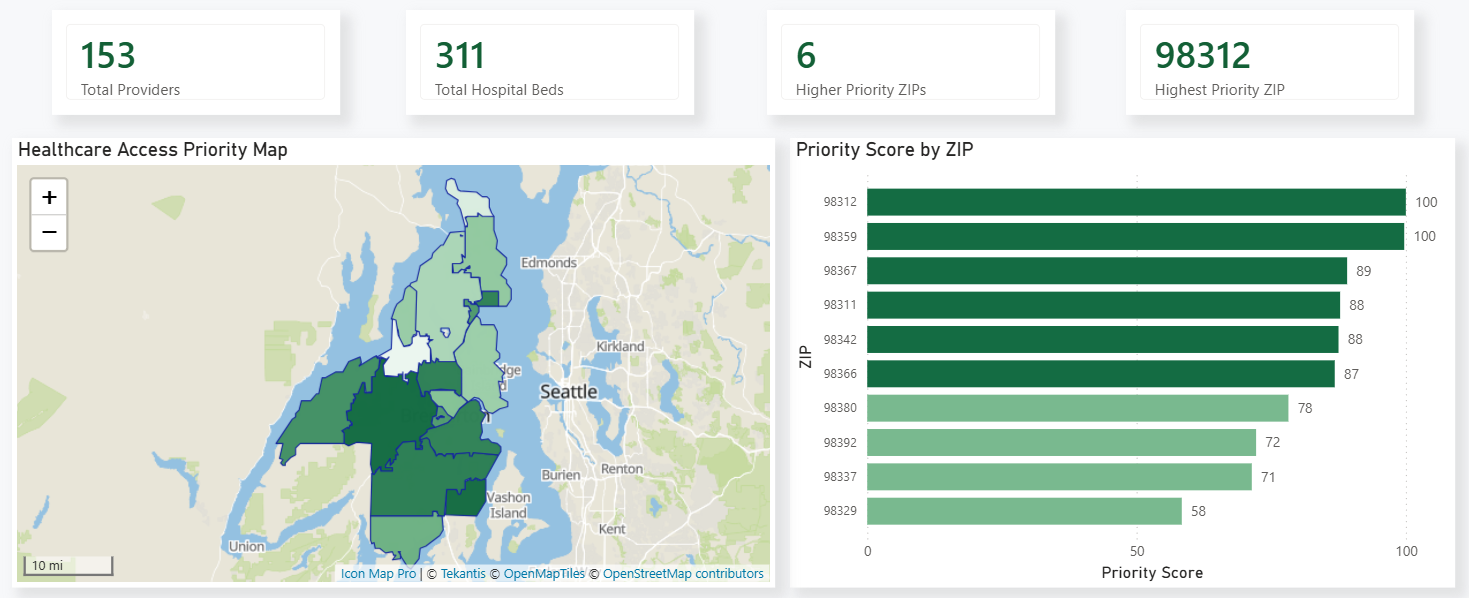

What the dashboard file says about the page in this screenshot:
{"tool":"powerbi","page":{"name":"Executive Summary","canvas":[1280,720],"ordinal":0},"visuals":[{"type":"cardVisual","fields":{"Data":["kitsap_healthcare_equity_metrics.Total Providers"]},"box":[48.3,104.3,249.7,90.5],"z":0},{"type":"cardVisual","fields":{"Data":["kitsap_healthcare_equity_metrics.Total Hospital Beds"]},"box":[355.6,104.3,249.7,90.5],"z":1000},{"type":"cardVisual","fields":{"Data":["kitsap_healthcare_equity_metrics.Top Priority ZIP"]},"box":[979.8,104.3,249.7,90.5],"z":2000},{"type":"cardVisual","fields":{"Data":["kitsap_healthcare_equity_metrics.Higher Priority Communities"]},"box":[668.4,104.3,249.7,90.5],"z":3000},{"type":"textbox","box":[0,9.6,1280,79.6],"z":4000},{"type":"shape","box":[233.2,82.3,784.7,13.7],"z":5000},{"type":"clusteredBarChart","title":"Priority Score by ZIP","fields":{"Category":["kitsap_healthcare_equity_metrics.ZIP"],"Y":["Sum(kitsap_healthcare_equity_metrics.Priority_Score)"]},"box":[688.5,215.5,577.2,389.8],"z":6000},{"type":"textbox","box":[20.6,614.6,650.3,105.6],"z":7000},{"type":"textbox","box":[688.5,605.3,584.2,114.7],"z":8000},{"type":"iconMapProE938B1CED4834168A55864E1F8E7242E","title":"Healthcare Access Priority Map","fields":{"category":["kitsap_healthcare_equity_metrics.ZIP"],"Size":["Sum(kitsap_healthcare_equity_metrics.Priority_Score)"],"featureRef":["Min(kitsap_healthcare_equity_metrics.ZIP)"],"FeatureWeight":["Sum(kitsap_healthcare_equity_metrics.Priority_Score)"]},"box":[14,215.5,661.7,390.1],"z":9000}]}

Visuals, with their boxes on the page's 1280x720 design canvas (x1, y1, x2, y2). These are canvas units, not pixel positions in the 1469x598 screenshot, which may show the page scaled, cropped or inside an application window:
cardVisual - kitsap_healthcare_equity_metrics.Total Providers: [48,104,298,195]
cardVisual - kitsap_healthcare_equity_metrics.Total Hospital Beds: [356,104,605,195]
cardVisual - kitsap_healthcare_equity_metrics.Top Priority ZIP: [980,104,1230,195]
cardVisual - kitsap_healthcare_equity_metrics.Higher Priority Communities: [668,104,918,195]
textbox: [0,10,1280,89]
shape: [233,82,1018,96]
"Priority Score by ZIP" clusteredBarChart: [688,216,1266,605]
textbox: [21,615,671,720]
textbox: [688,605,1273,720]
"Healthcare Access Priority Map" iconMapProE938B1CED4834168A55864E1F8E7242E: [14,216,676,606]
